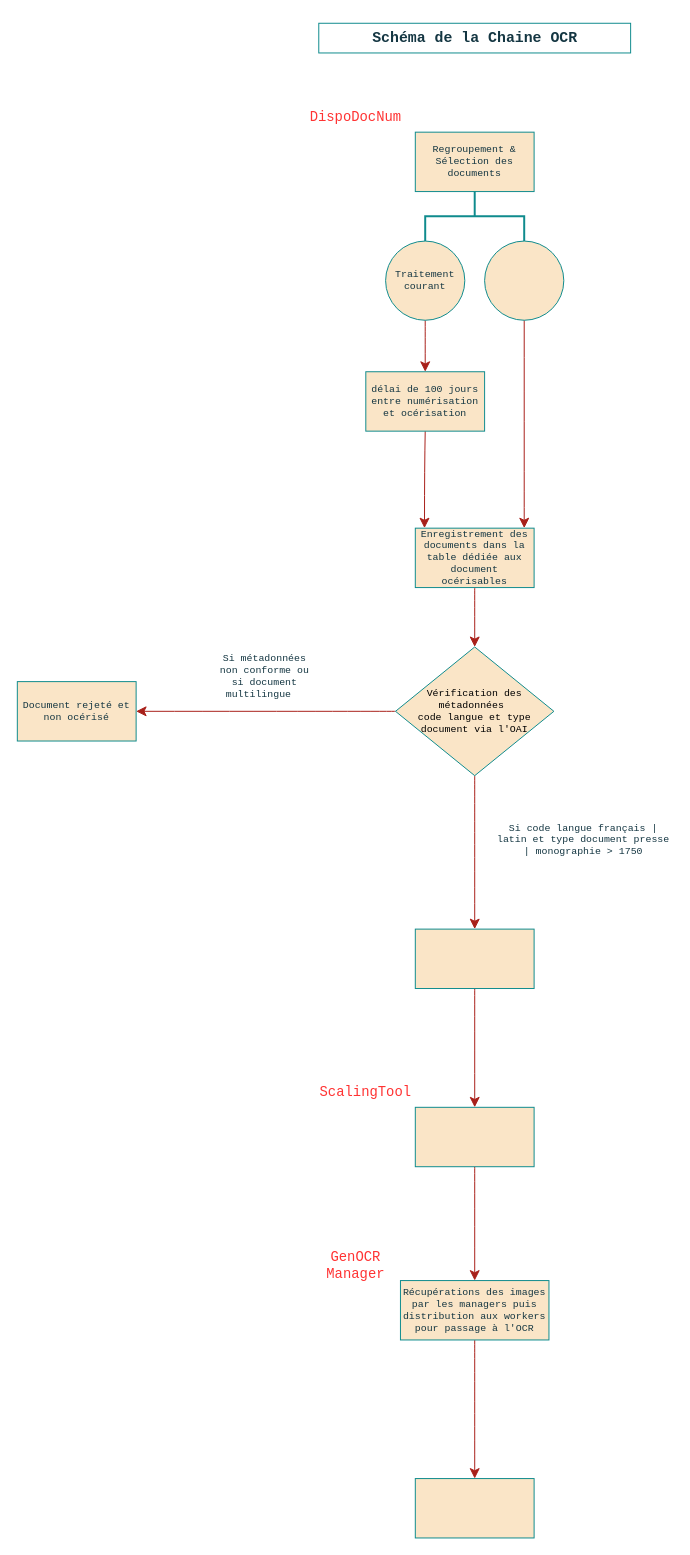
This 690x1555 diagram has some shape labels left out. The shapes that lost their labels are listed below. From the top down, each one's box as (x1, y1, x2, y2) in pixels, then its label:
(484, 240, 564, 320): Traitement rétrospectif
(414, 928, 534, 989): Document en demande d'océrisation
(414, 1106, 534, 1167): Entrée du document dans la chaine OCR
(414, 1478, 534, 1538): Création d'un nouveau fichier puis envoie à la chaine d'entrée
